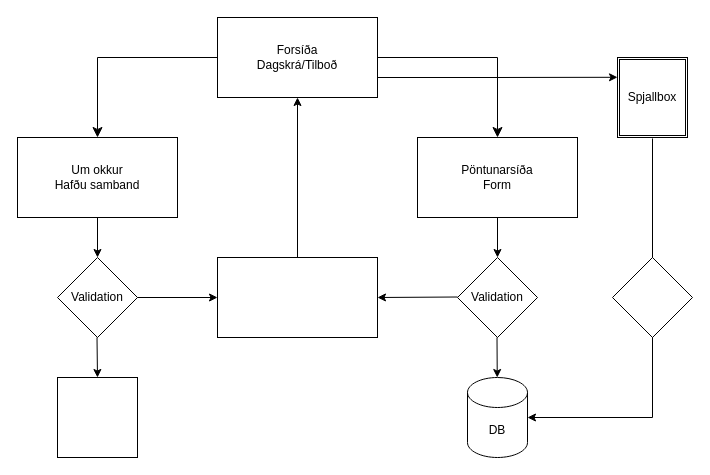
The diagram is 710 pixels wide and 475 high, and some of its shapes have lost their labels. Each missing label, with the box of its shape:
ChatGPT: (612, 256, 692, 338)
Takk fyrir: (216, 256, 378, 338)
Tölvupóstur: (56, 376, 138, 458)
